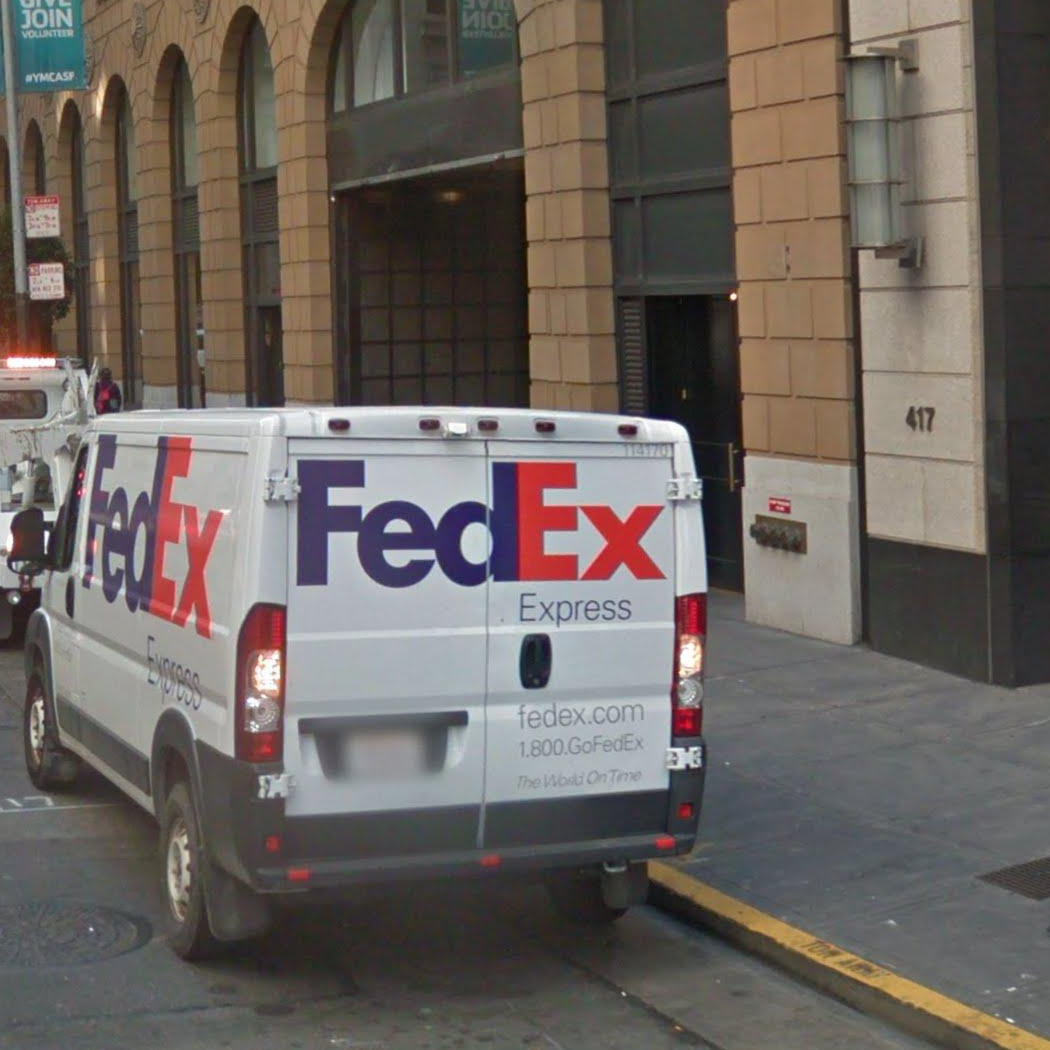No Parking: (27, 261, 66, 302)
